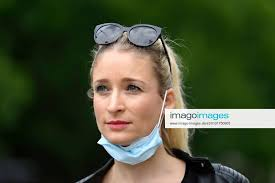mask_weared_incorrect: (93, 74, 161, 154)
